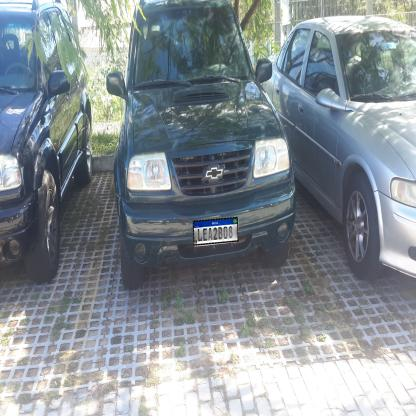PlacaM: (193, 216, 238, 246)
